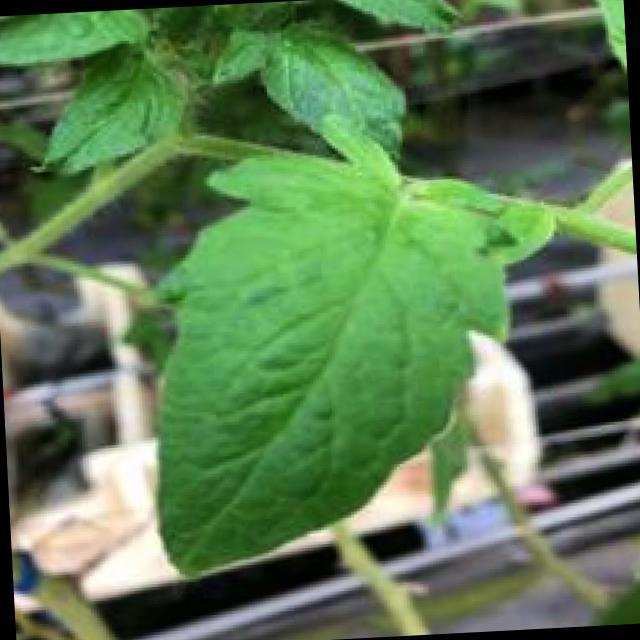Tomato healthy leaf: (157, 149, 560, 580)
